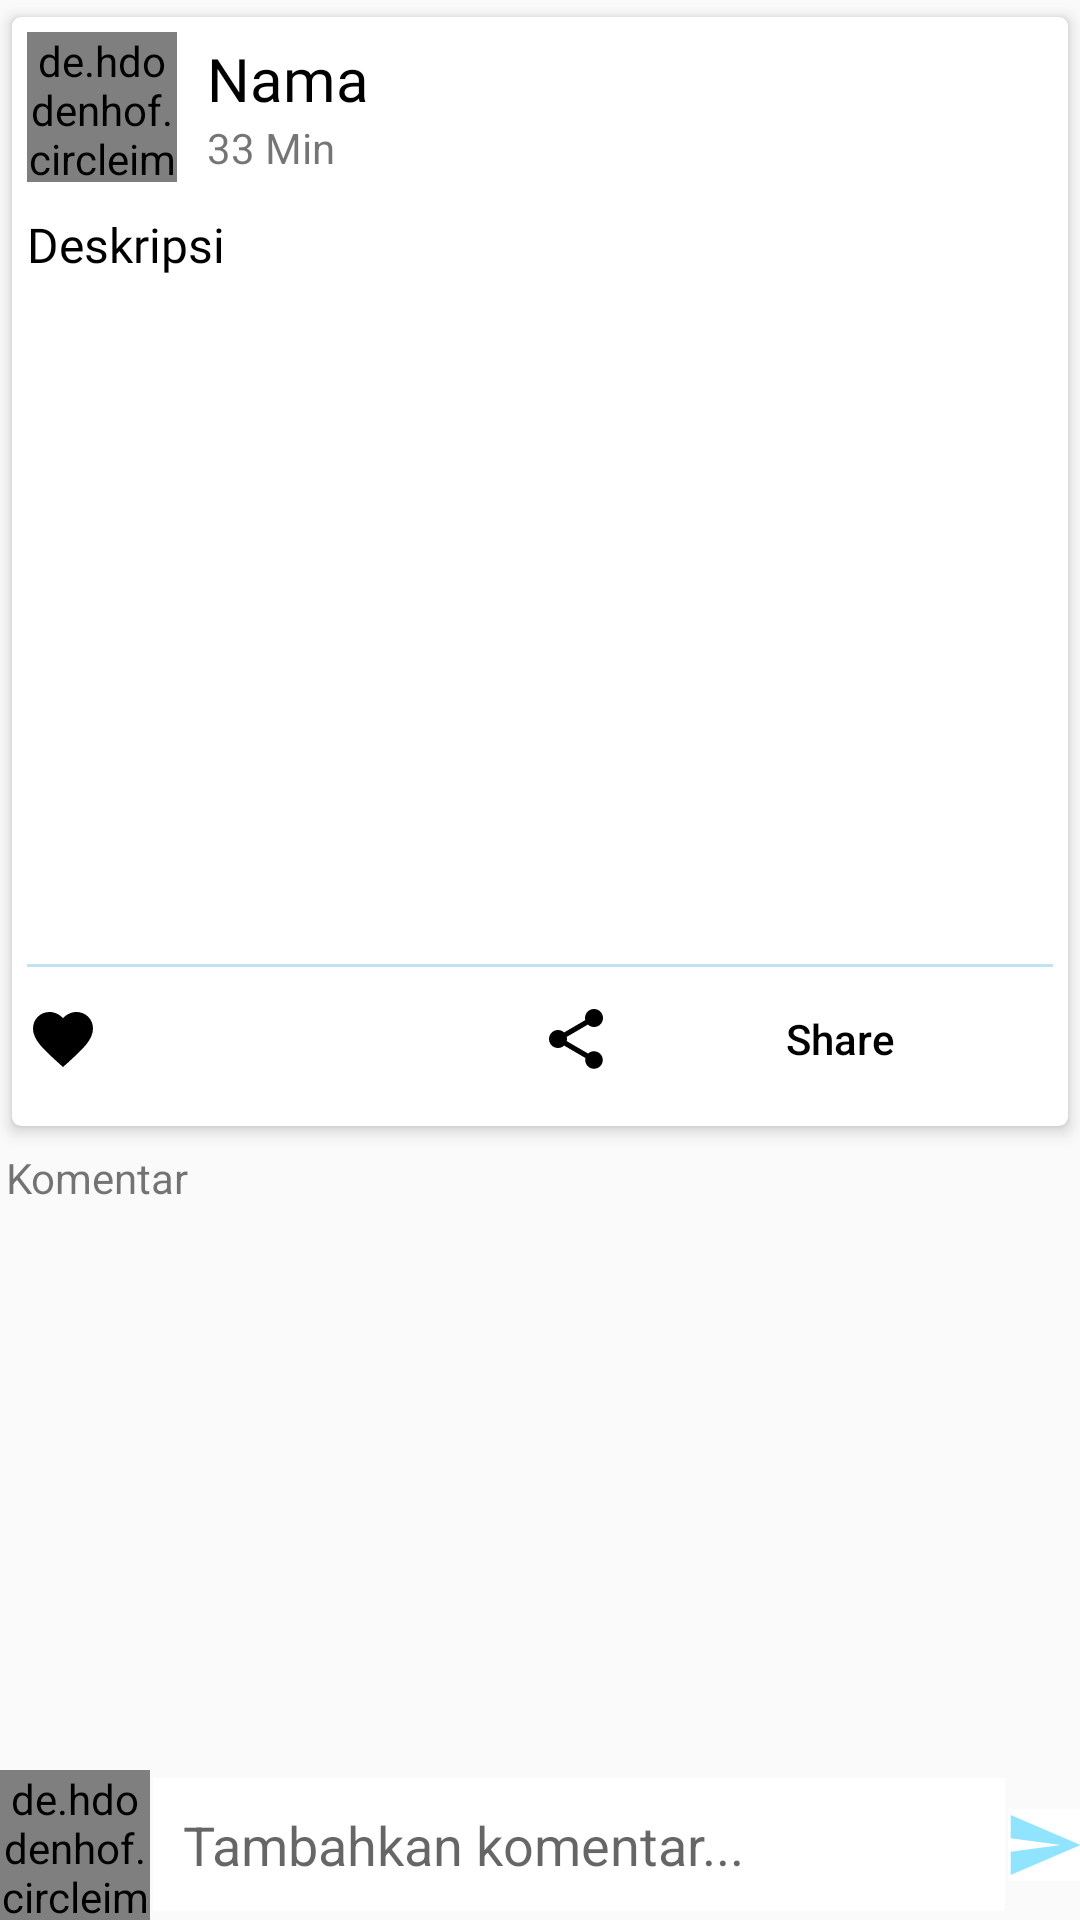

Screen size 1080w x 1920h. Icon name, then its center in pixels as (x,y):
send name: (1045,1845)
